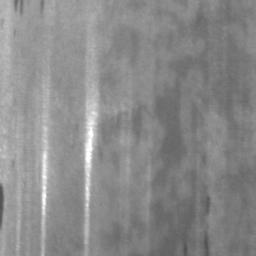Bright scratch: (83, 49, 101, 256), (41, 127, 49, 256)
